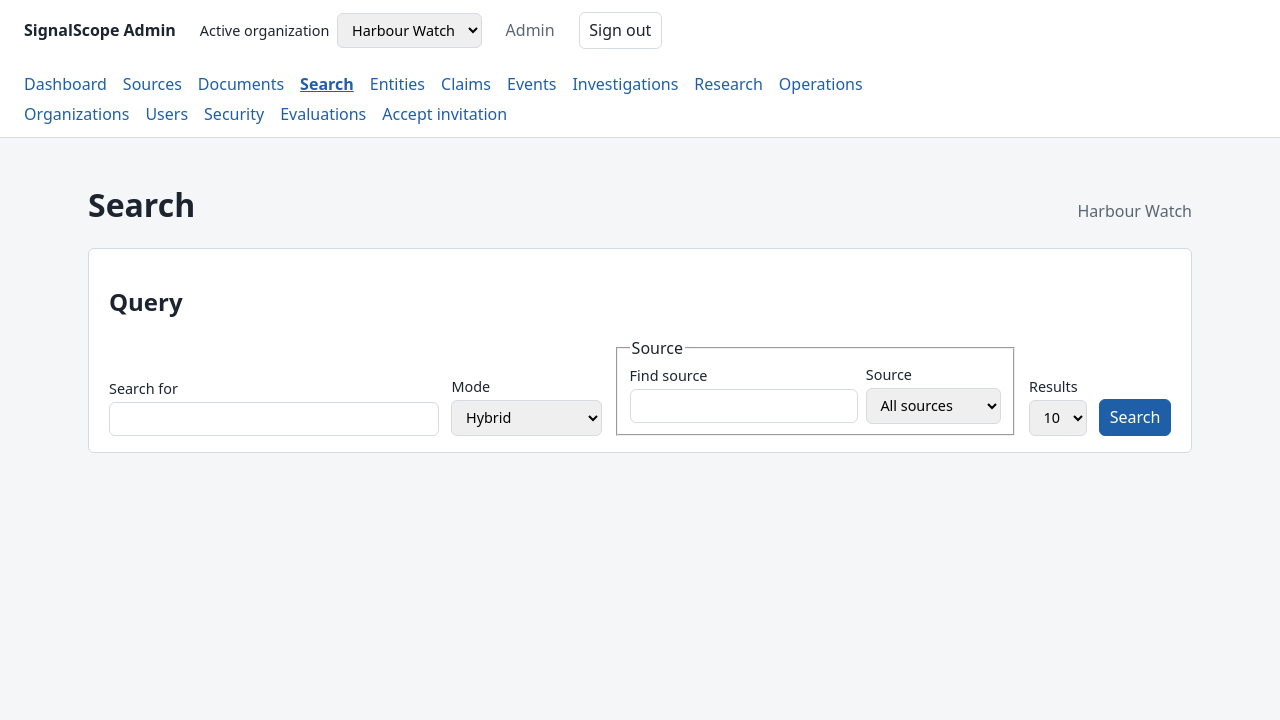
search workspace › runs hybrid search by default and keeps the API's order
Type "harbour storm" into the field labelled "Search for" at (274, 419), box top-left (109, 402), bottom-right (439, 436)
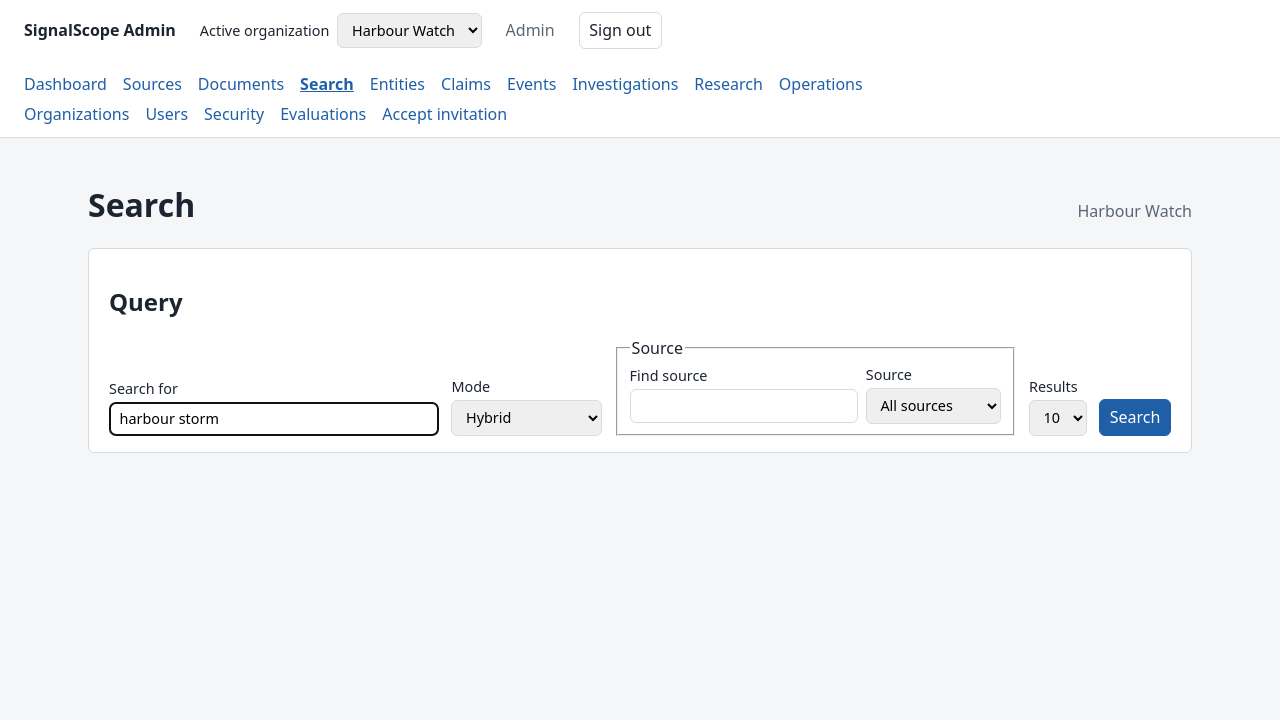
Click the button "Search" at (1135, 418), box top-left (1099, 399), bottom-right (1171, 436)
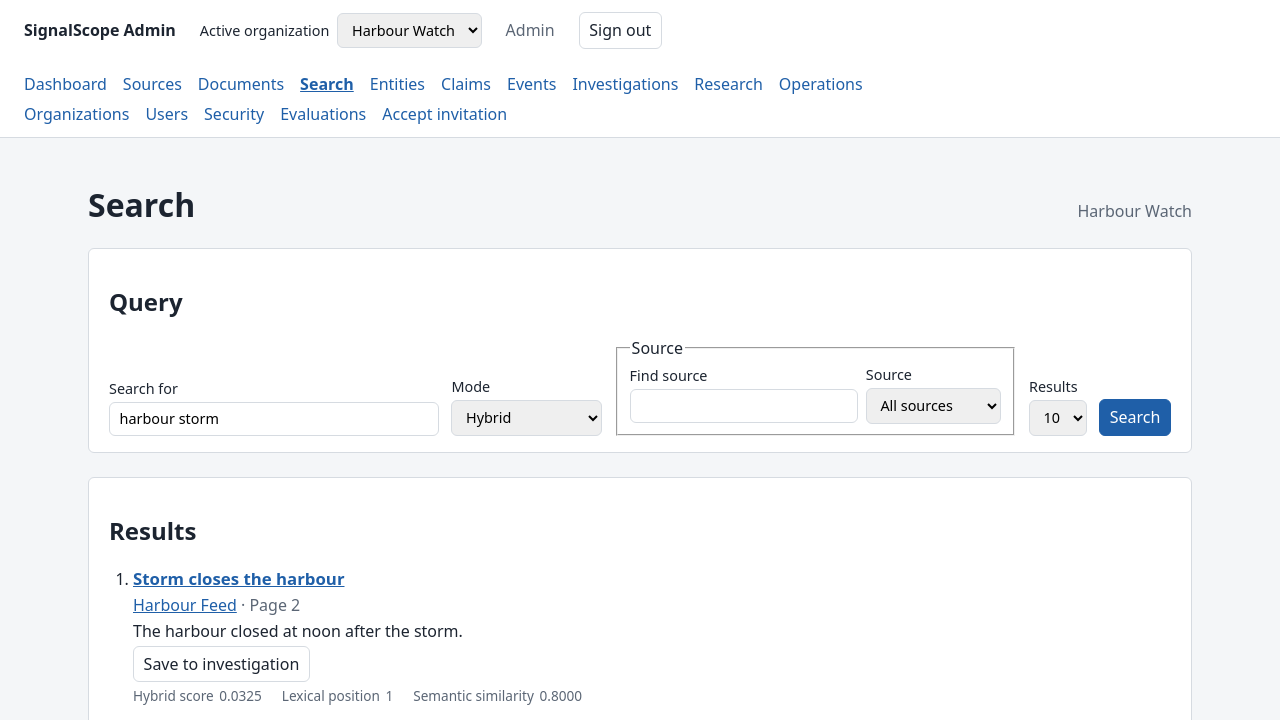
Expected: the text "0.0325" is shown, top-left (219, 686), bottom-right (262, 705)
Expected: the text "1" is shown, top-left (385, 686), bottom-right (393, 705)
